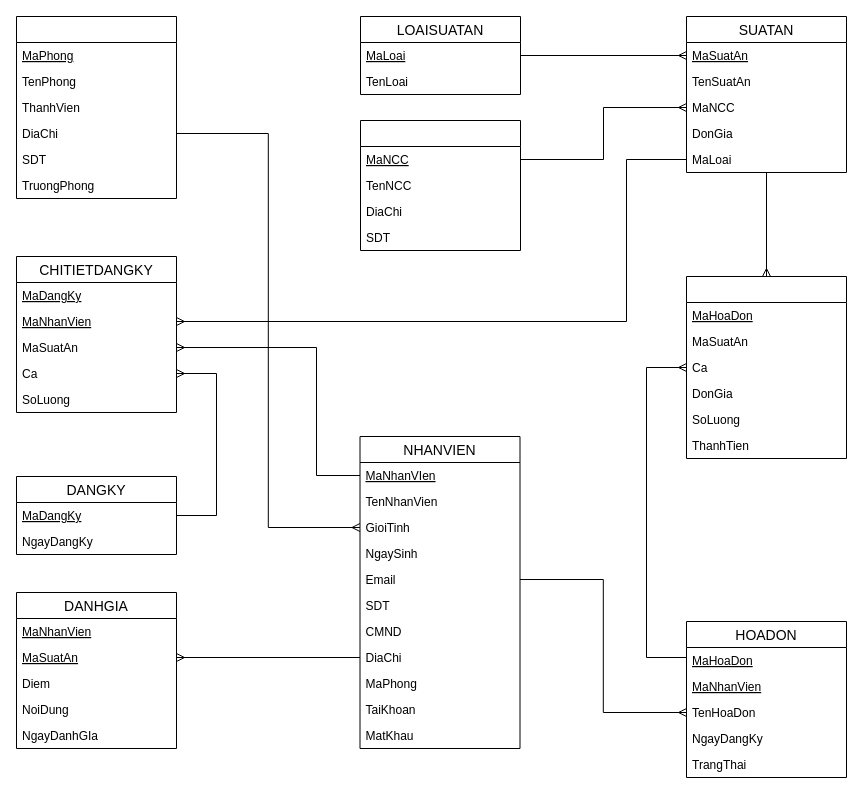
The diagram is 863 pixels wide and 794 high, and some of its shapes have lost their labels. Each missing label, with the box of its shape:
CHITIETHOADON: (686, 276, 846, 458)
NHACUNGCAP: (360, 120, 520, 250)
PHONGBAN: (16, 16, 176, 198)
